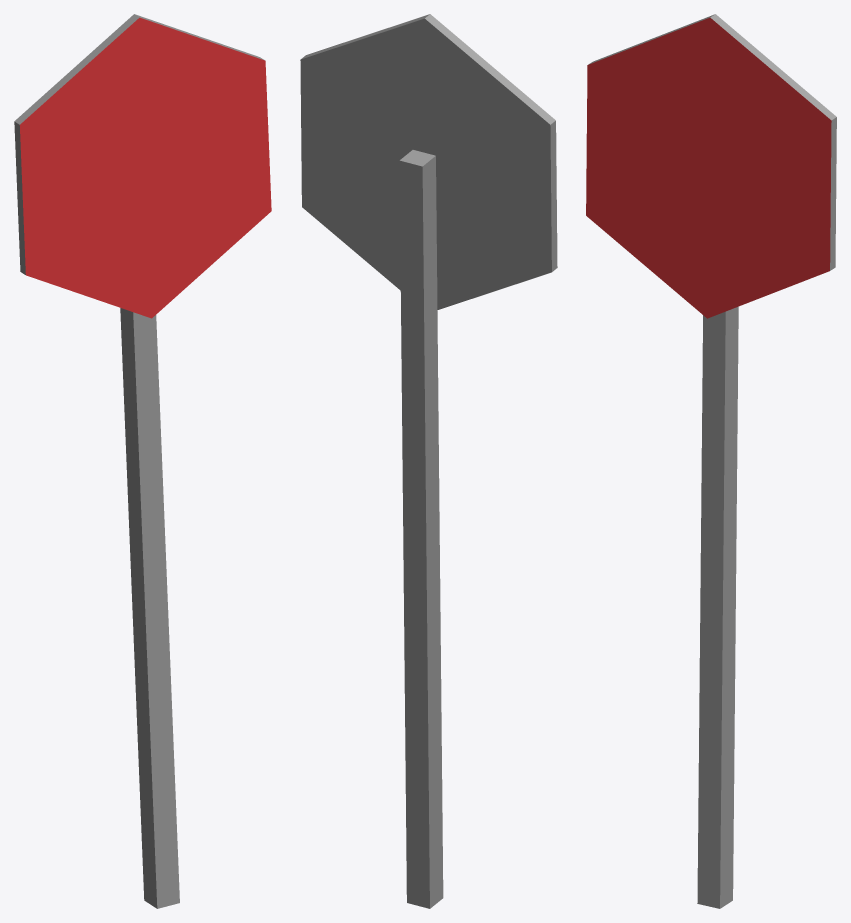
Rendered from sign02.fbx.
3 renders of one model, left to right at view 1: azimuth 30°, elevation 25°; view 2: azimuth 150°, elevation 25°; view 3: azimuth 330°, elevation 25°, orthographic. The views are drawn at different scales.
Visible parts, largest first — view 1: sign02; view 2: sign02; view 3: sign02.
Part boxes in pixels (x1,y1,x2,y2): sign02: (14,14,271,908); sign02: (300,14,557,908); sign02: (586,14,836,908).
Size of the model in its own units: 26.22 by 89.08 by 5.87.
